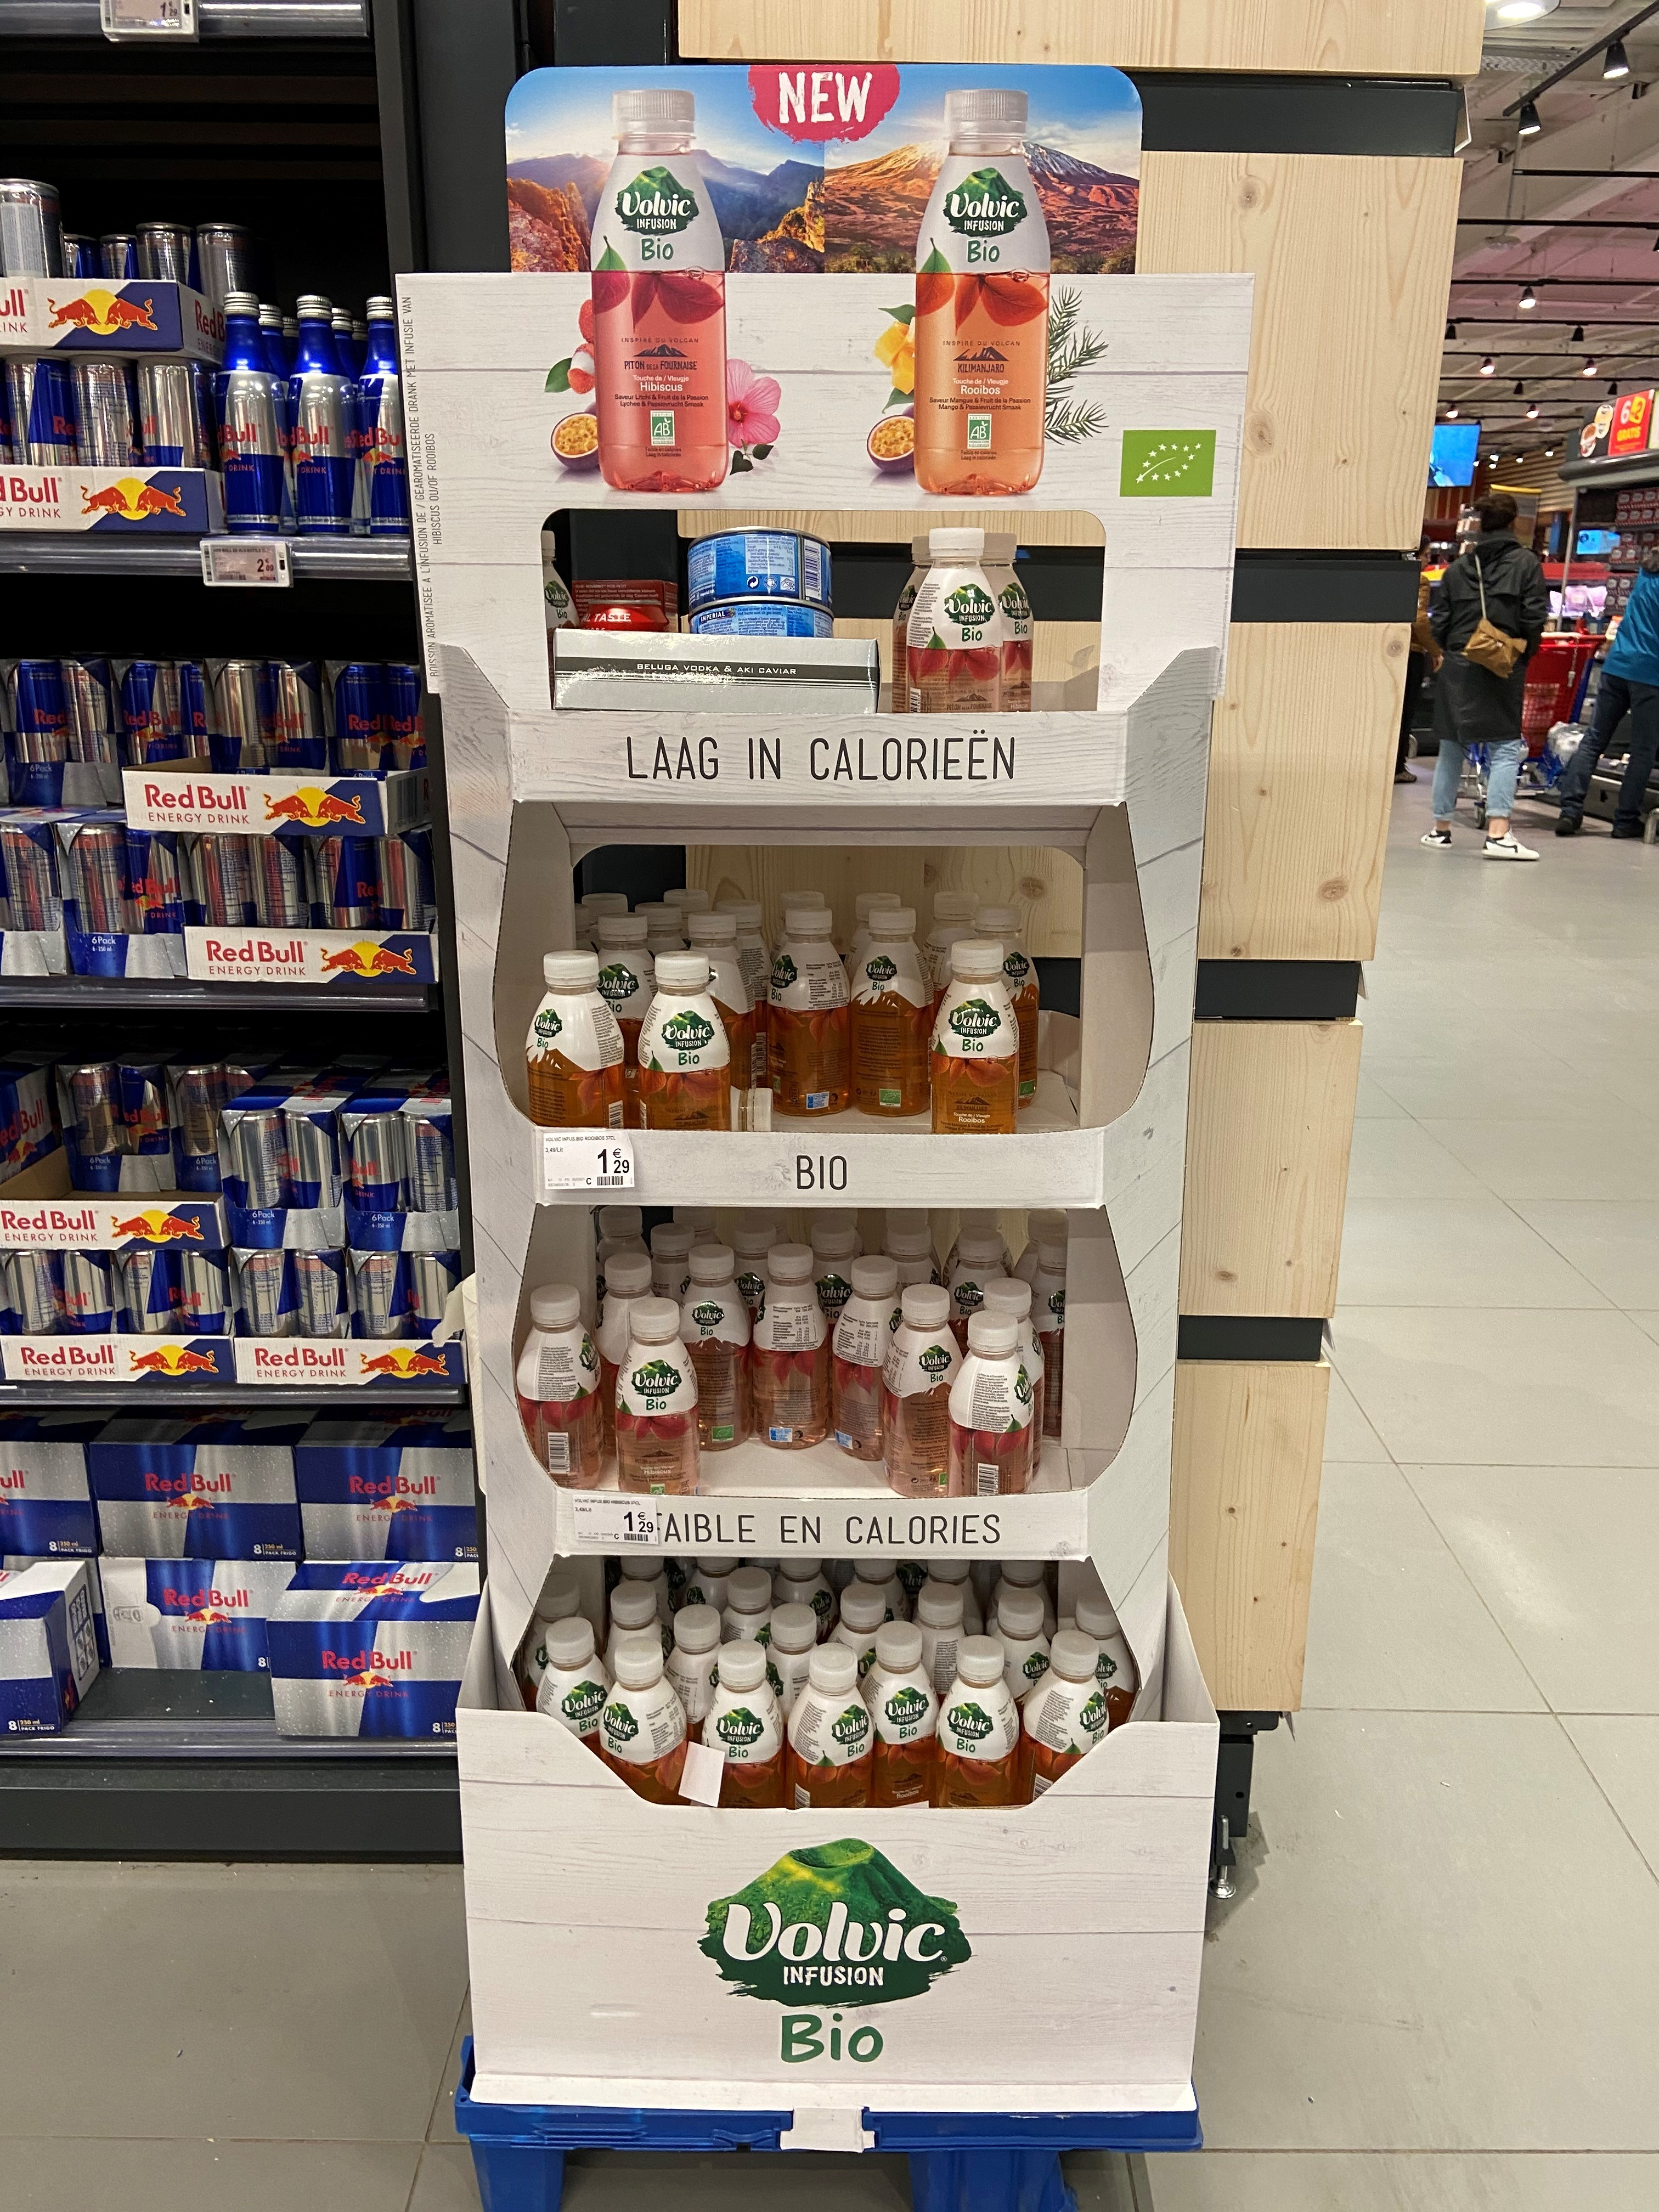Imperial: (683, 526, 838, 613), (688, 601, 835, 681)
RedBullOriginalBlik250ml: (68, 352, 146, 529), (136, 354, 213, 528), (0, 805, 71, 982), (7, 350, 75, 526), (0, 176, 64, 343), (258, 820, 317, 975), (321, 824, 380, 977), (373, 824, 430, 979), (195, 827, 254, 977), (122, 1242, 183, 1378), (235, 1242, 296, 1374), (404, 1240, 460, 1379), (178, 1240, 235, 1374), (293, 1244, 350, 1376), (5, 1244, 61, 1379), (347, 1244, 404, 1374), (64, 1247, 120, 1378)
RedBullOriginalBlik6x250ml: (221, 1071, 350, 1249), (342, 1059, 465, 1244), (63, 819, 192, 975), (209, 653, 331, 815), (0, 653, 115, 806), (326, 658, 443, 806), (61, 1055, 176, 1195), (119, 657, 221, 799)
RedBullOriginalBlik8x250ml: (267, 1561, 497, 1740), (298, 1400, 500, 1562), (99, 1404, 301, 1561), (108, 1559, 307, 1667)
RedBullOriginalFles: (207, 293, 288, 542), (347, 293, 420, 545), (284, 293, 356, 540)
VolvicHibiscusTea37cl: (906, 526, 1007, 768), (511, 1284, 606, 1503), (610, 1298, 706, 1507), (946, 1308, 1039, 1515), (831, 1252, 918, 1463), (884, 1282, 967, 1498), (749, 1240, 835, 1451), (671, 1240, 755, 1451)
VolvicRooibosTea37cl: (526, 934, 631, 1127), (763, 918, 868, 1111), (936, 927, 1040, 1118), (638, 946, 741, 1139), (843, 916, 946, 1109), (532, 1616, 622, 1825), (1021, 1629, 1112, 1836), (857, 1620, 945, 1832), (936, 1632, 1023, 1843), (782, 1641, 875, 1838), (598, 1637, 688, 1836), (699, 1639, 786, 1831)
